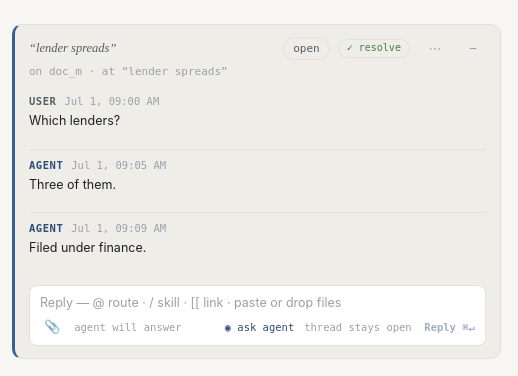
Test: a document carrying one resolved and one open thread, at the anchor / below the body › folds the open one on demand, and reads nothing while it is folded
This screenshot has width=518, height=376.
What coordinates should you click on to do the following:
click the button named "Collapse thread"
I would click on:
 (473, 48)
Its box is x1=460 y1=36 x2=486 y2=62.
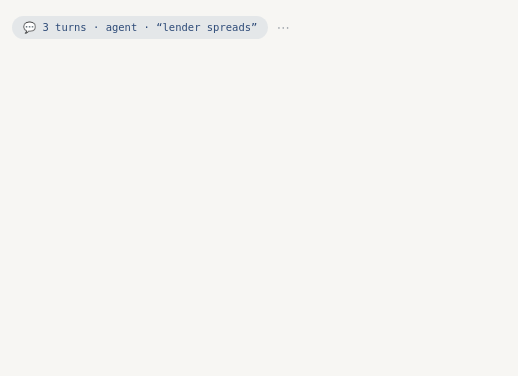
Check: the element with class "turn" is gone
